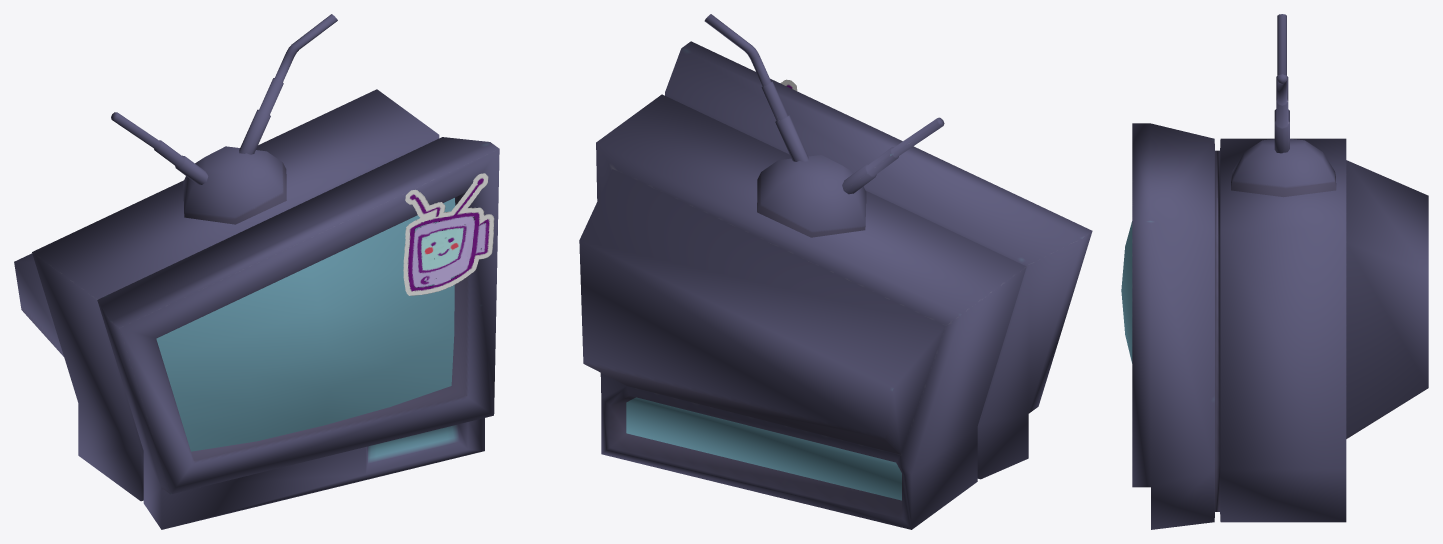
3 renders of one model, left to right at view 1: azimuth 30°, elevation 25°; view 2: azimuth 150°, elevation 25°; view 3: azimuth 270°, elevation 25°, orthographic. The views are drawn at different scales.
Parts seen in each view (by area): view 1: TV-pantalla, Plane; view 2: TV-pantalla; view 3: TV-pantalla.
Boxes of the visible parts, box(x1,y1,x2,y2) form: TV-pantalla: box(14, 14, 499, 529); Plane: box(403, 173, 494, 295); TV-pantalla: box(579, 14, 1092, 529); TV-pantalla: box(1121, 14, 1428, 529).
Bounding box in the file's own units: 466 × 427 × 288.
2 materials, 2 textured.
